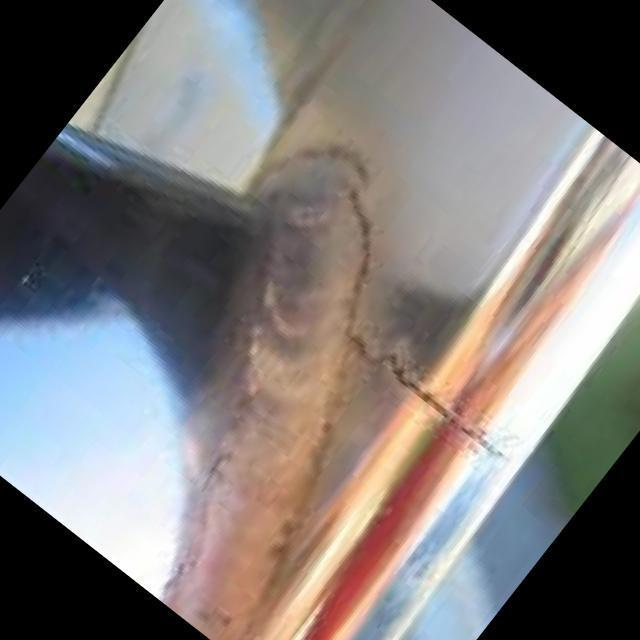defect: (238, 135, 519, 469)
